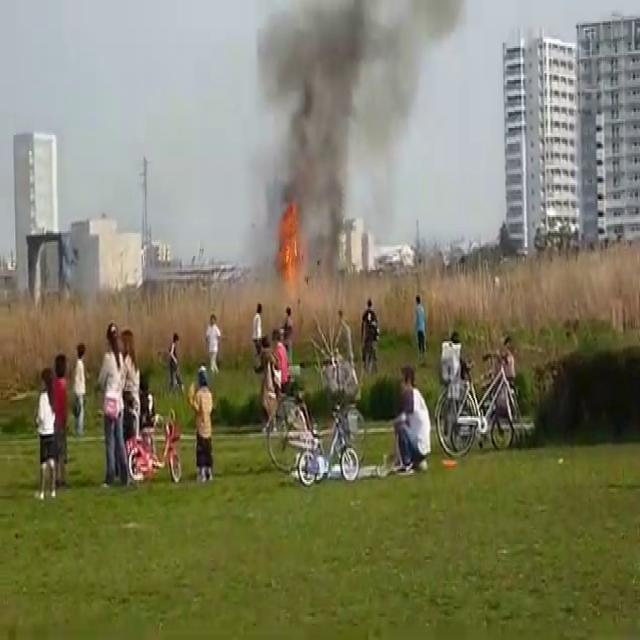Fire: (270, 192, 310, 295)
Smoke: (237, 0, 412, 276)
